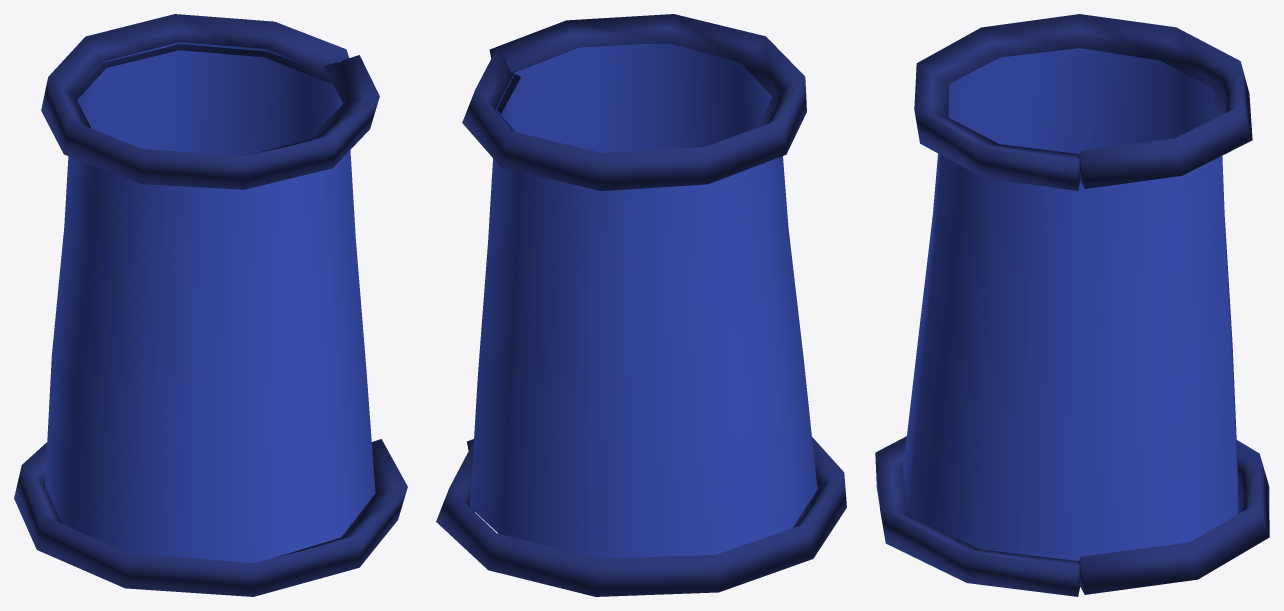
The model's file is shroomite_armor_bracer.L.glb.
3 renders of one model, left to right at view 1: azimuth 30°, elevation 25°; view 2: azimuth 150°, elevation 25°; view 3: azimuth 270°, elevation 25°, orthographic. The views are drawn at different scales.
Parts seen in each view (by area): view 1: shroomite_armor_bracer.L; view 2: shroomite_armor_bracer.L; view 3: shroomite_armor_bracer.L.
Boxes of the visible parts, x1,y1,x2,y2 form: shroomite_armor_bracer.L: (14,14,407,596); shroomite_armor_bracer.L: (436,14,846,596); shroomite_armor_bracer.L: (875,14,1269,596).
Bounding box in the file's own units: 0.144 × 0.1719 × 0.1414.
